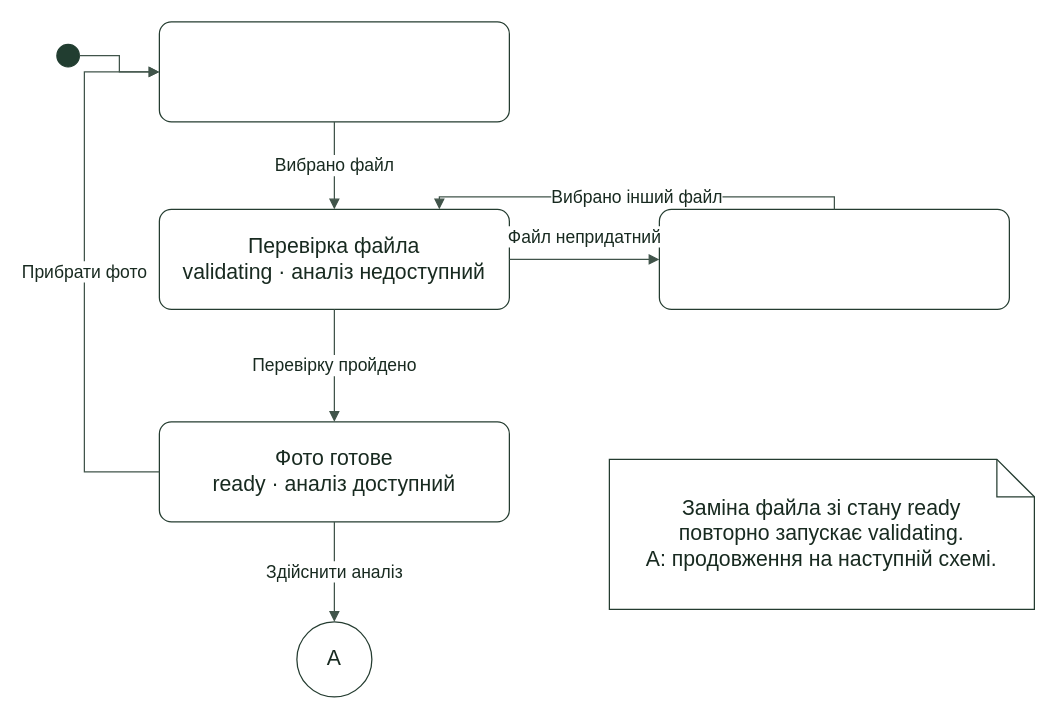
The diagram is 1056 pixels wide and 719 high, and some of its shapes have lost their labels. The centre of each missing label's shape, as x and y in pixels:
"Очікування фото idle · фото відсутнє" goes at (333,71).
"Помилка файла error · фото відсутнє" goes at (833,258).
